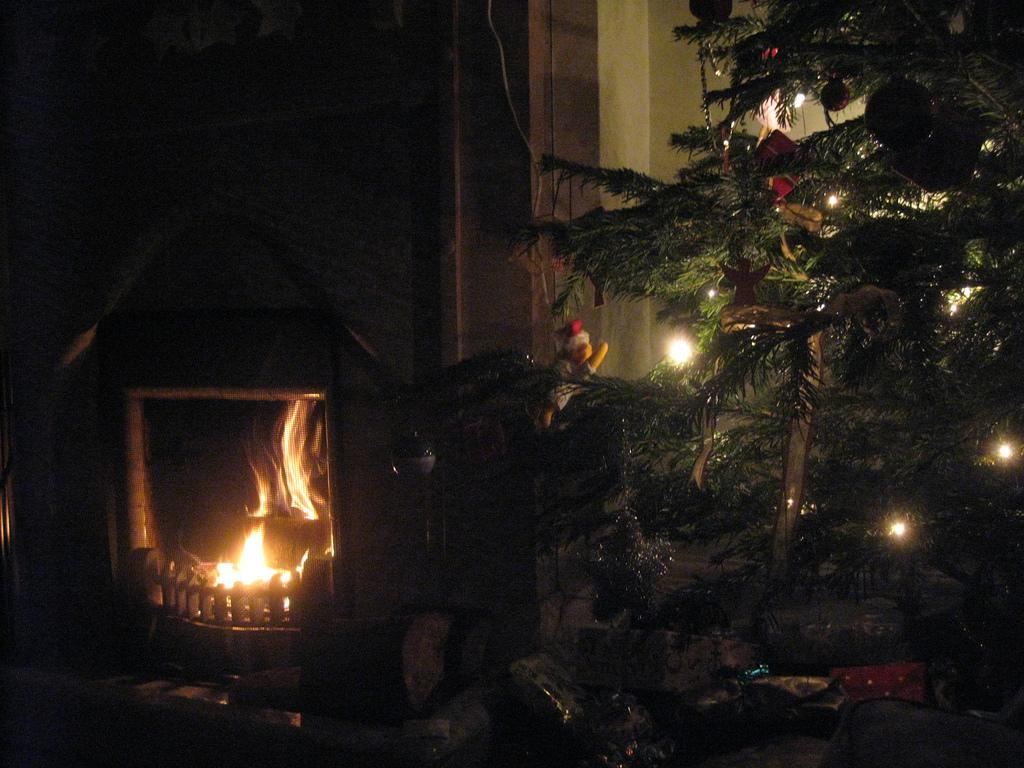fire: (278, 410, 320, 516), (220, 530, 268, 592)
